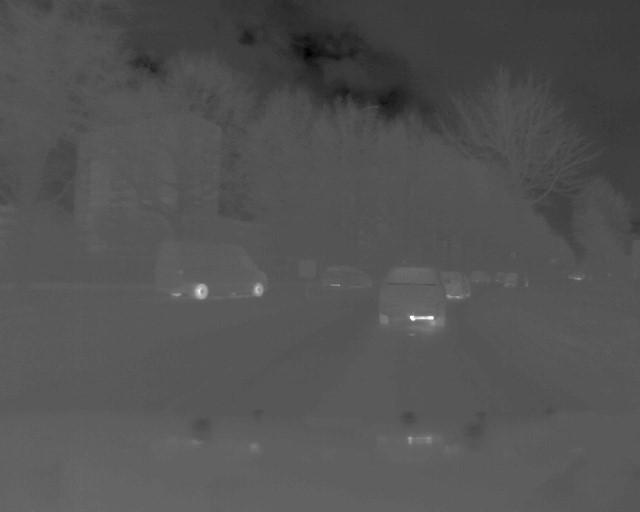car: (155, 240, 272, 301), (377, 265, 450, 330), (321, 263, 374, 289), (436, 270, 472, 303)
